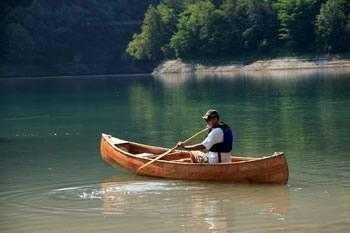kayak: (99, 133, 288, 184)
